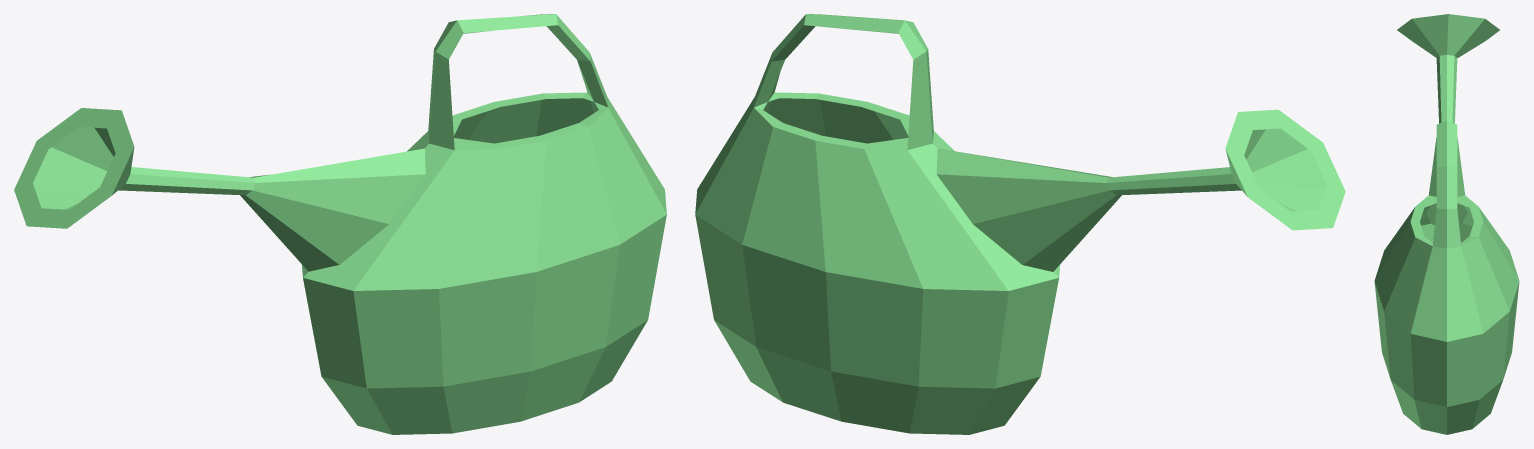
Rendered from Watering Can.glb.
3 renders of one model, left to right at view 1: azimuth 30°, elevation 25°; view 2: azimuth 150°, elevation 25°; view 3: azimuth 270°, elevation 25°, orthographic. The views are drawn at different scales.
Parts seen in each view (by area): view 1: Cylinder; view 2: Cylinder; view 3: Cylinder.
Part boxes in pixels (x1,y1,x2,y2): Cylinder: [14, 14, 666, 434]; Cylinder: [695, 14, 1345, 434]; Cylinder: [1374, 14, 1519, 434].
Size of the model in its own units: 1.26 by 0.72 by 0.3596.
